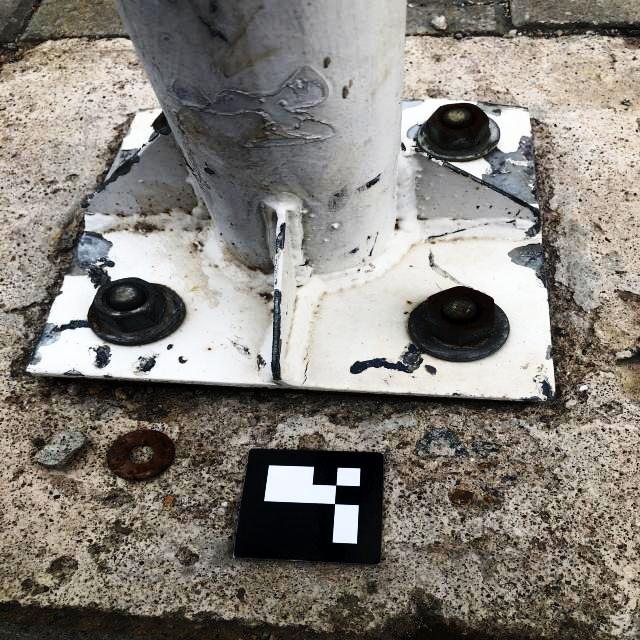Corrosion: (52, 377, 526, 403), (107, 429, 175, 480), (428, 286, 495, 335), (428, 103, 490, 142), (440, 299, 476, 318), (89, 305, 109, 332), (459, 334, 490, 348), (153, 111, 168, 129), (165, 208, 170, 212), (406, 301, 412, 304)
